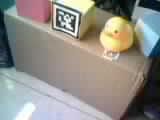duck: (101, 9, 135, 54)
